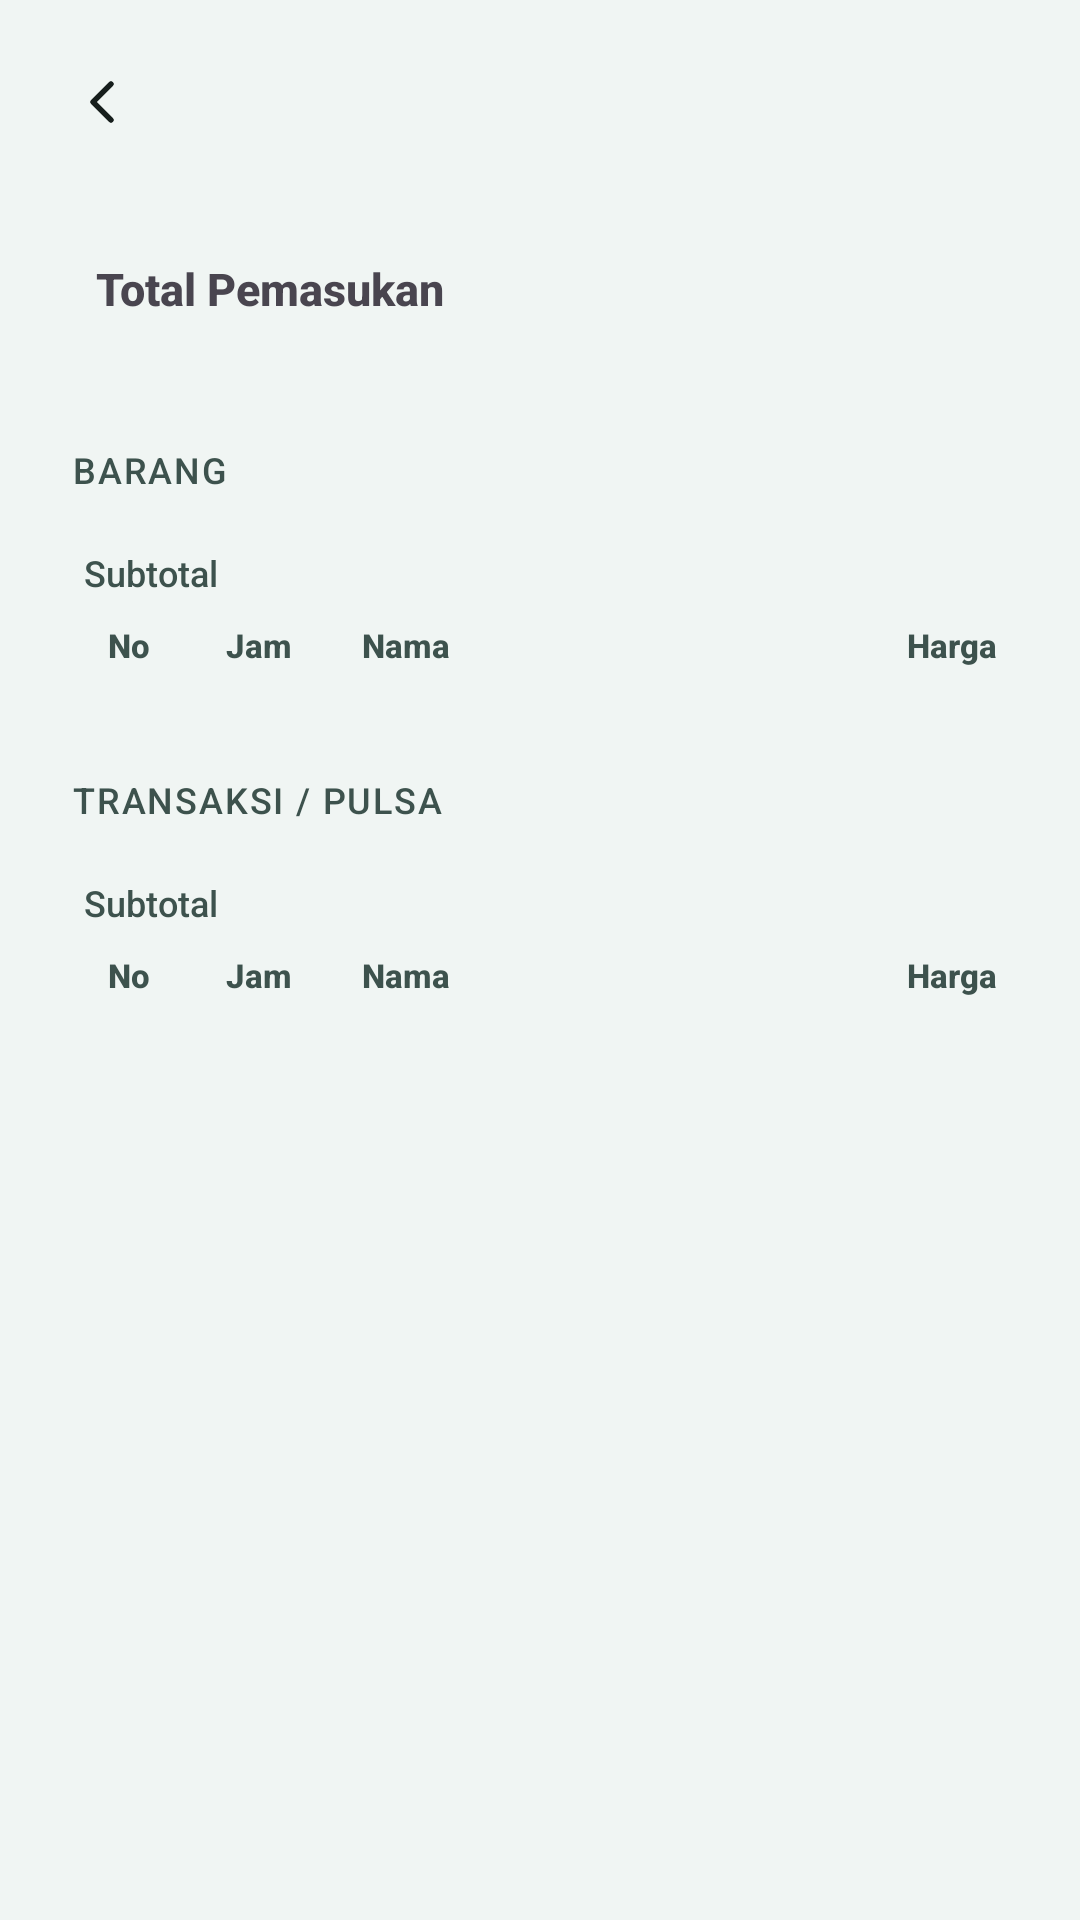

Icons on this 1080w x 1920h Android screen, each with the point to tap as [x,y]:
Kembali: [102,102]
